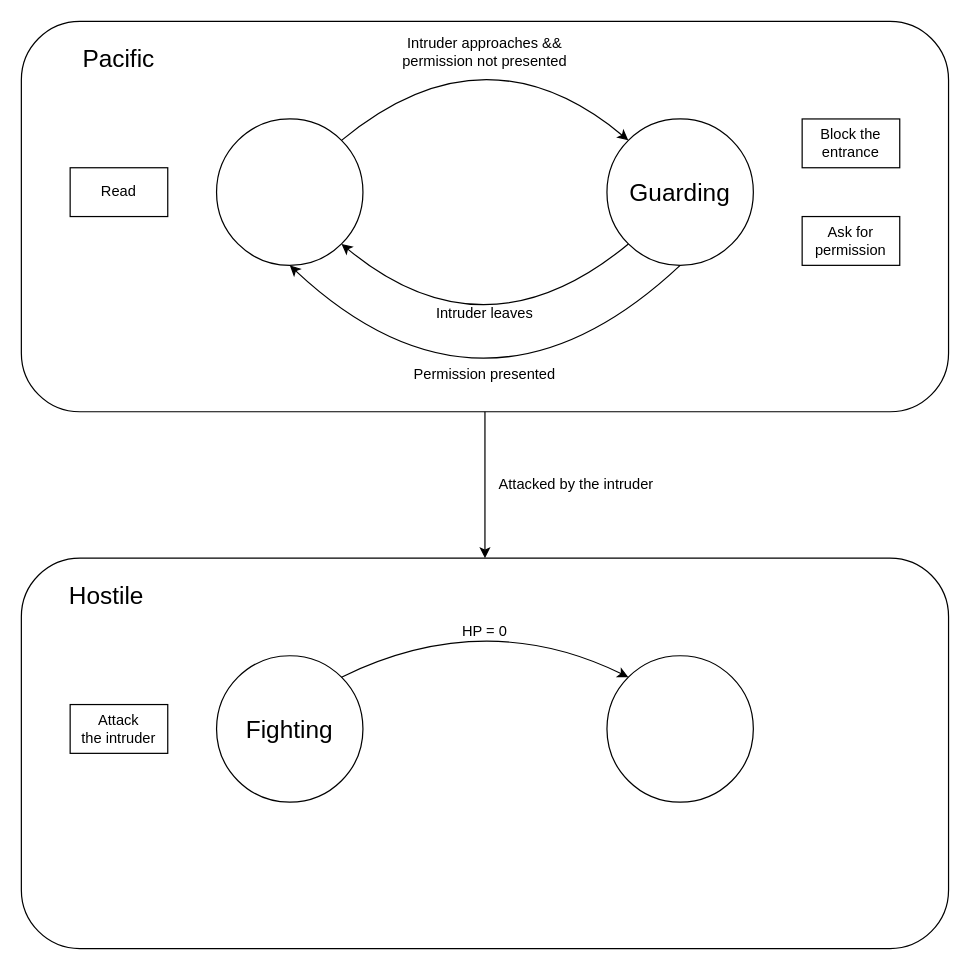
Image size: 970x970. Some labels were removed from this diagram. Here are the shapes that lost their labels. From the top down, the box of each, then its label:
(215, 118, 363, 265): Waiting
(606, 655, 753, 802): Resting
